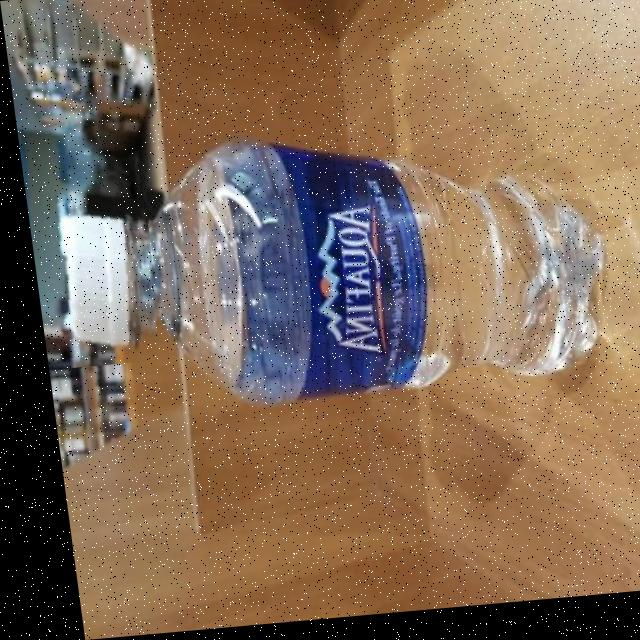litter: (18, 164, 159, 369)
